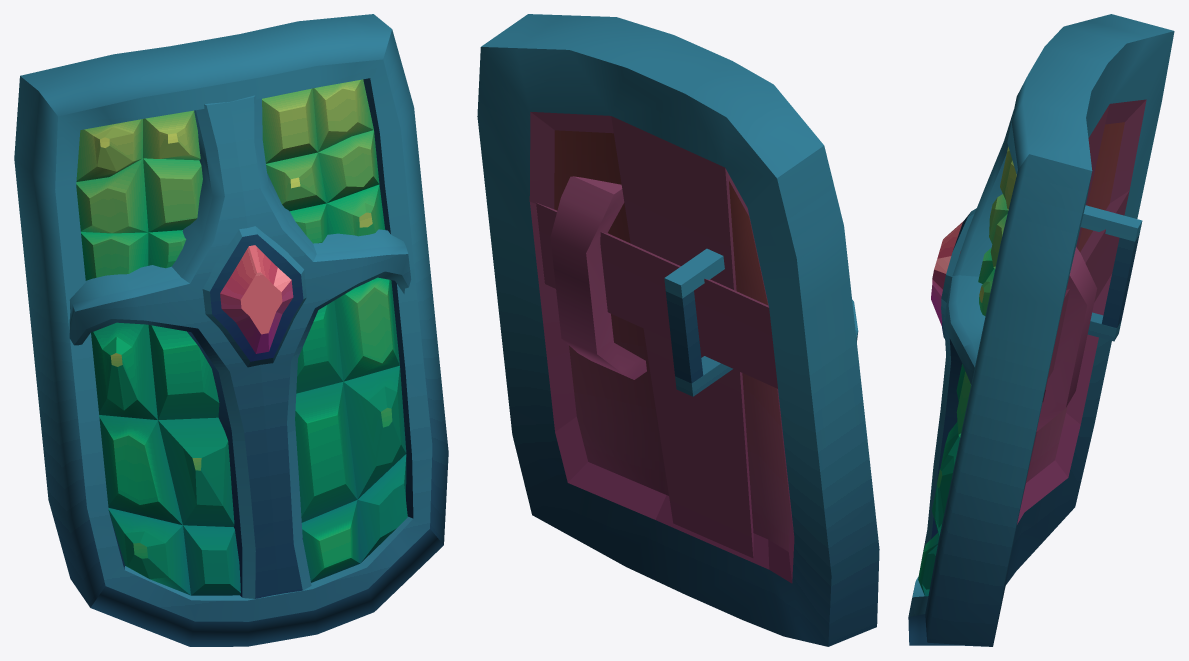
Rendered from DragonScaleShield.fbx.
3 renders of one model, left to right at view 1: azimuth 30°, elevation 25°; view 2: azimuth 150°, elevation 25°; view 3: azimuth 270°, elevation 25°, orthographic. The views are drawn at different scales.
Parts seen in each view (by area): view 1: pCube47; view 2: pCube47; view 3: pCube47.
Part boxes in pixels (x1,y1,x2,y2): pCube47: (14,14,448,646); pCube47: (477,14,879,646); pCube47: (908,14,1174,646).
Size of the model in its own units: 1.83 by 2.72 by 1.18.
